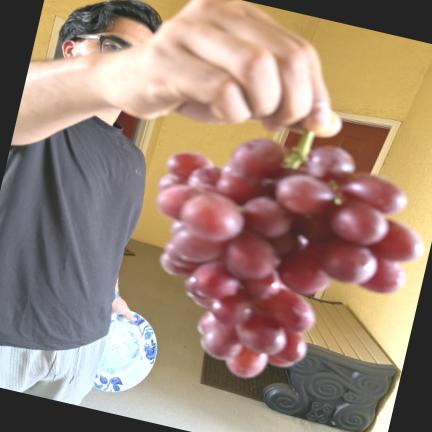grape_cluster: (157, 131, 423, 378)
